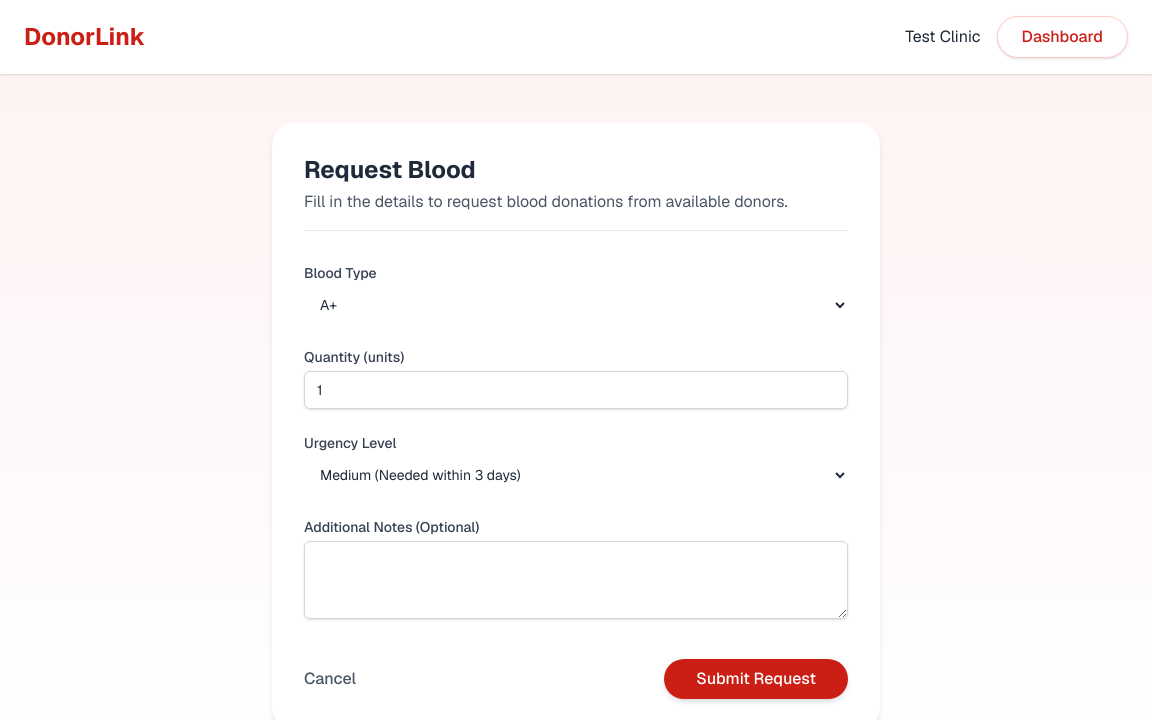
it: Blood Request Flow Integration › Clinic Request Flow › handles server errors correctly
# Fill in the form
Select "B+" in the dropdown labelled "Blood Type" at (576, 305), box [304,287,848,323]
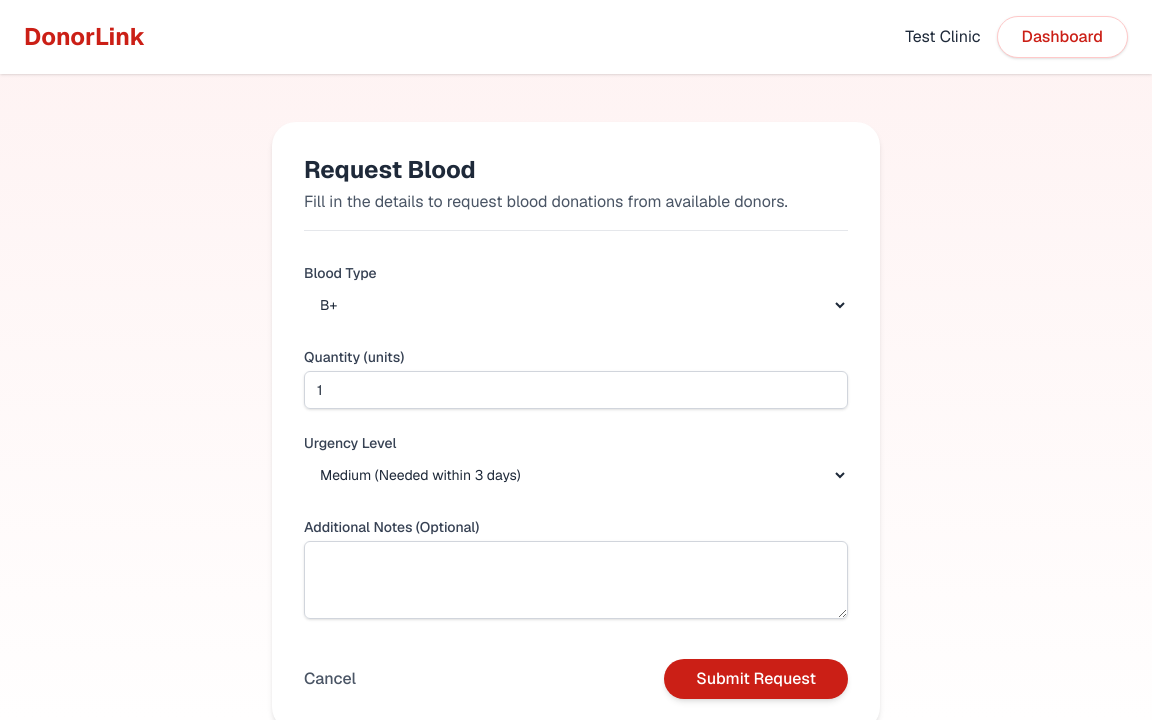
Replace the text in the number field labelled "Quantity (units)" with "3" at (576, 390), box [304,371,848,409]
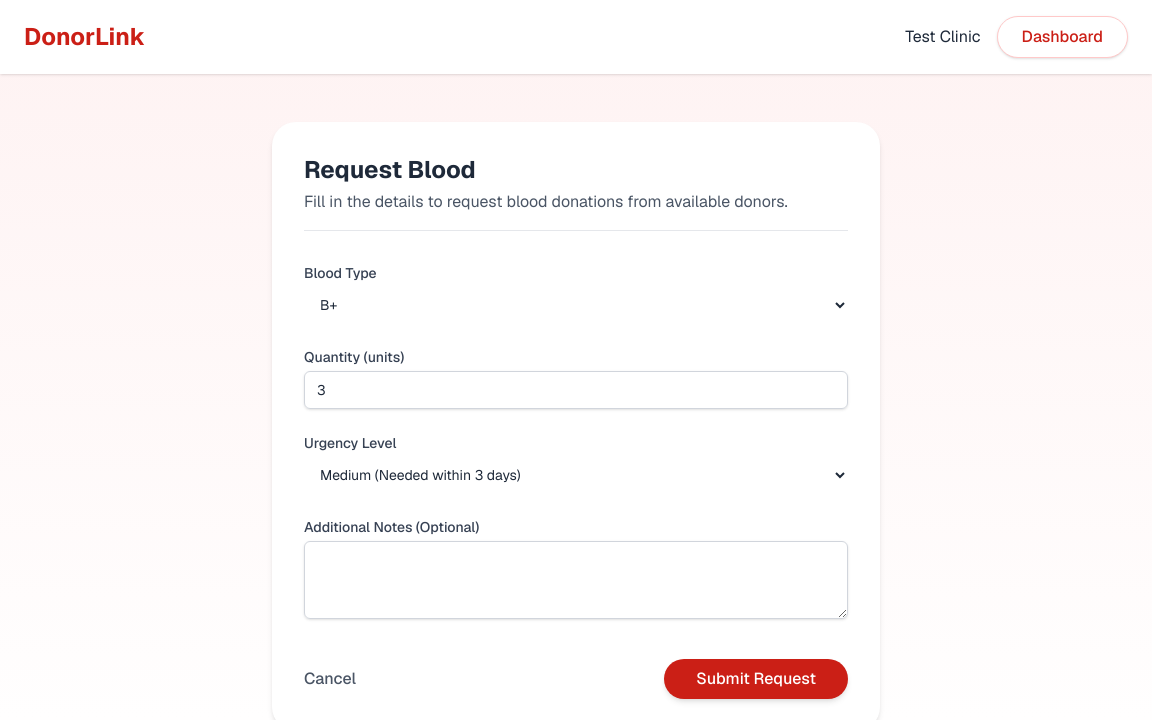
Select "High (Needed within 24 hours)" in the dropdown labelled "Urgency Level" at (576, 475), box [304,457,848,493]
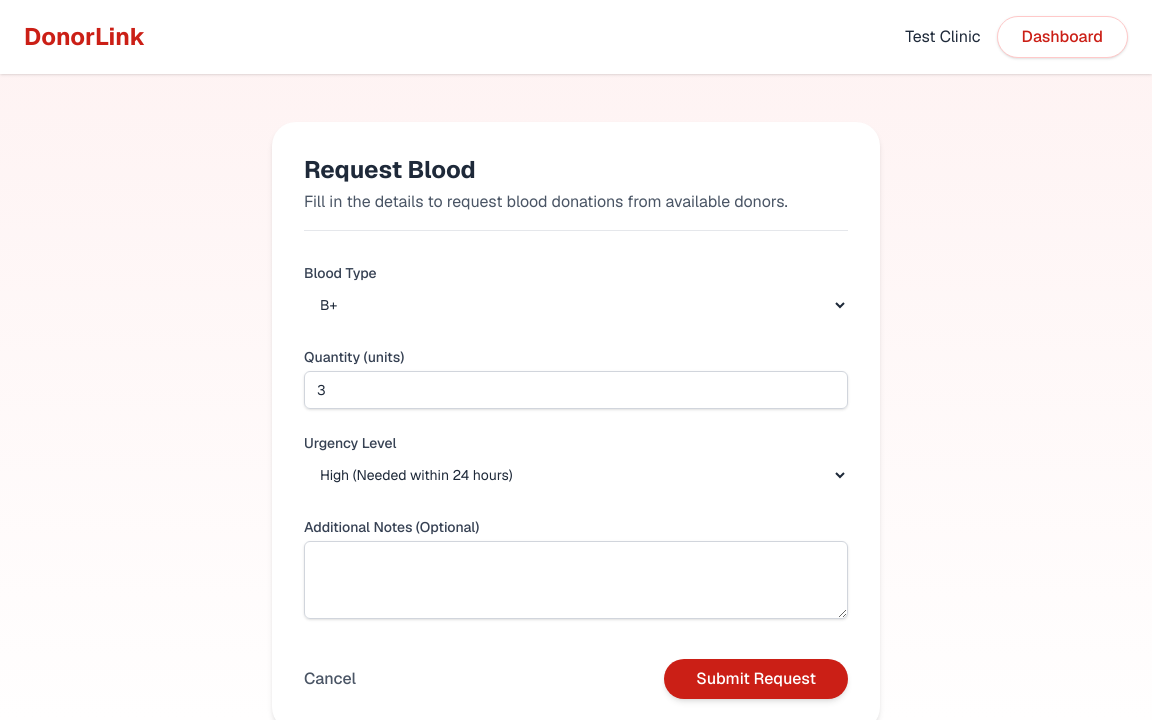
Type "Emergency need" into the text box labelled "Additional Notes (Optional)" at (576, 580), box [304,541,848,619]
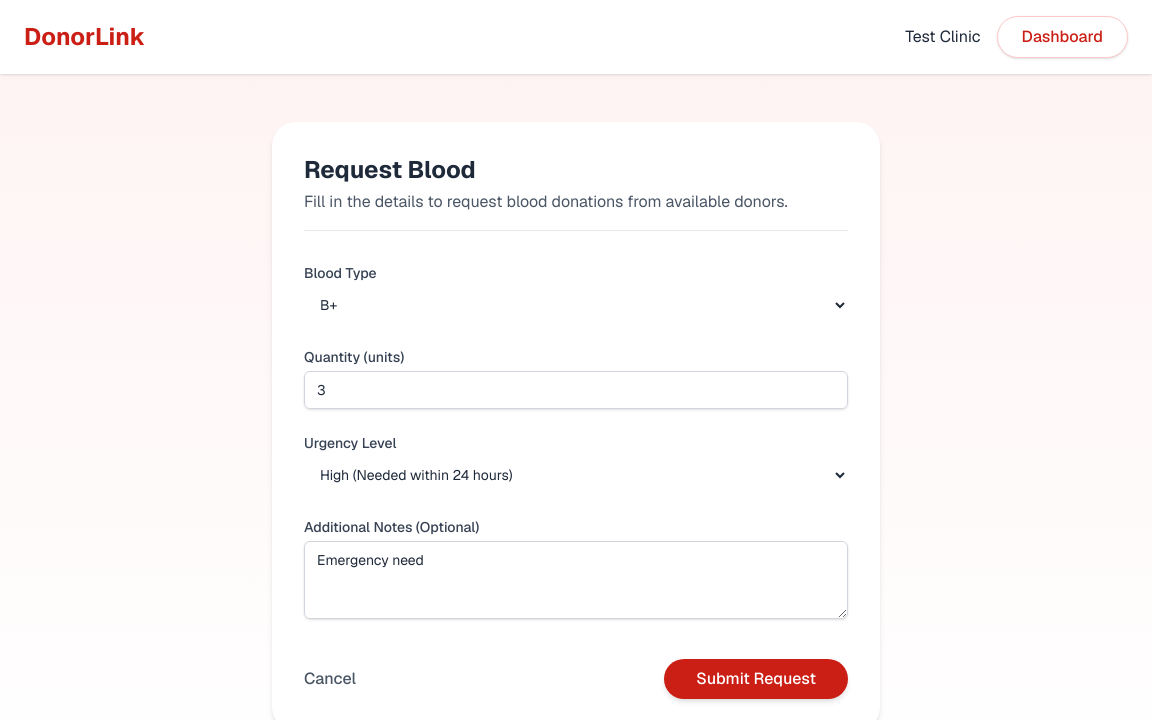
# Submit the form
Click the button "Submit Request" at (756, 679), box [664,659,848,699]
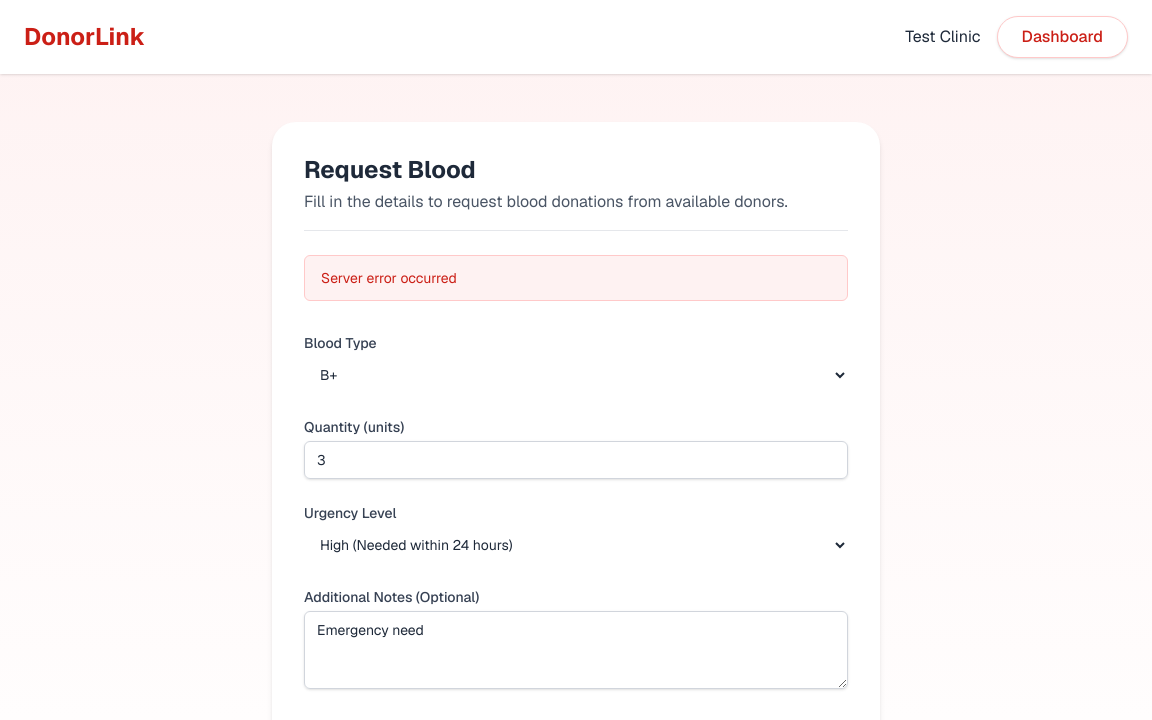
Now the text "Server error occurred" is shown, box [304,255,848,301]
